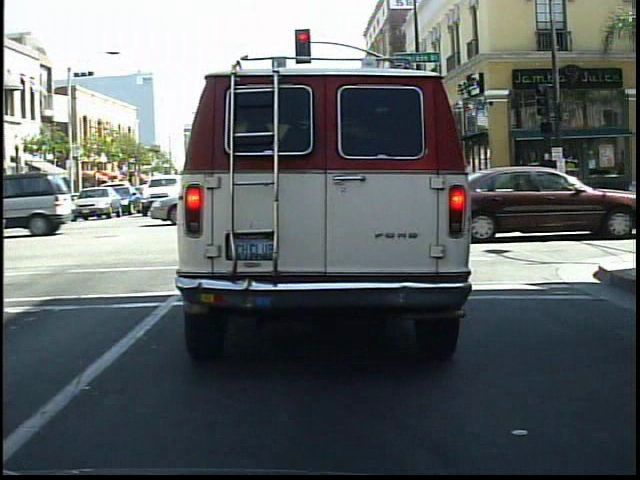person: (538, 151, 562, 205), (513, 156, 533, 202)
